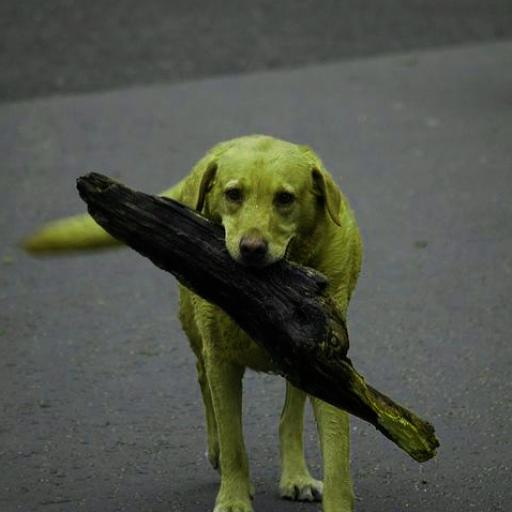dog_face: (188, 136, 346, 269)
